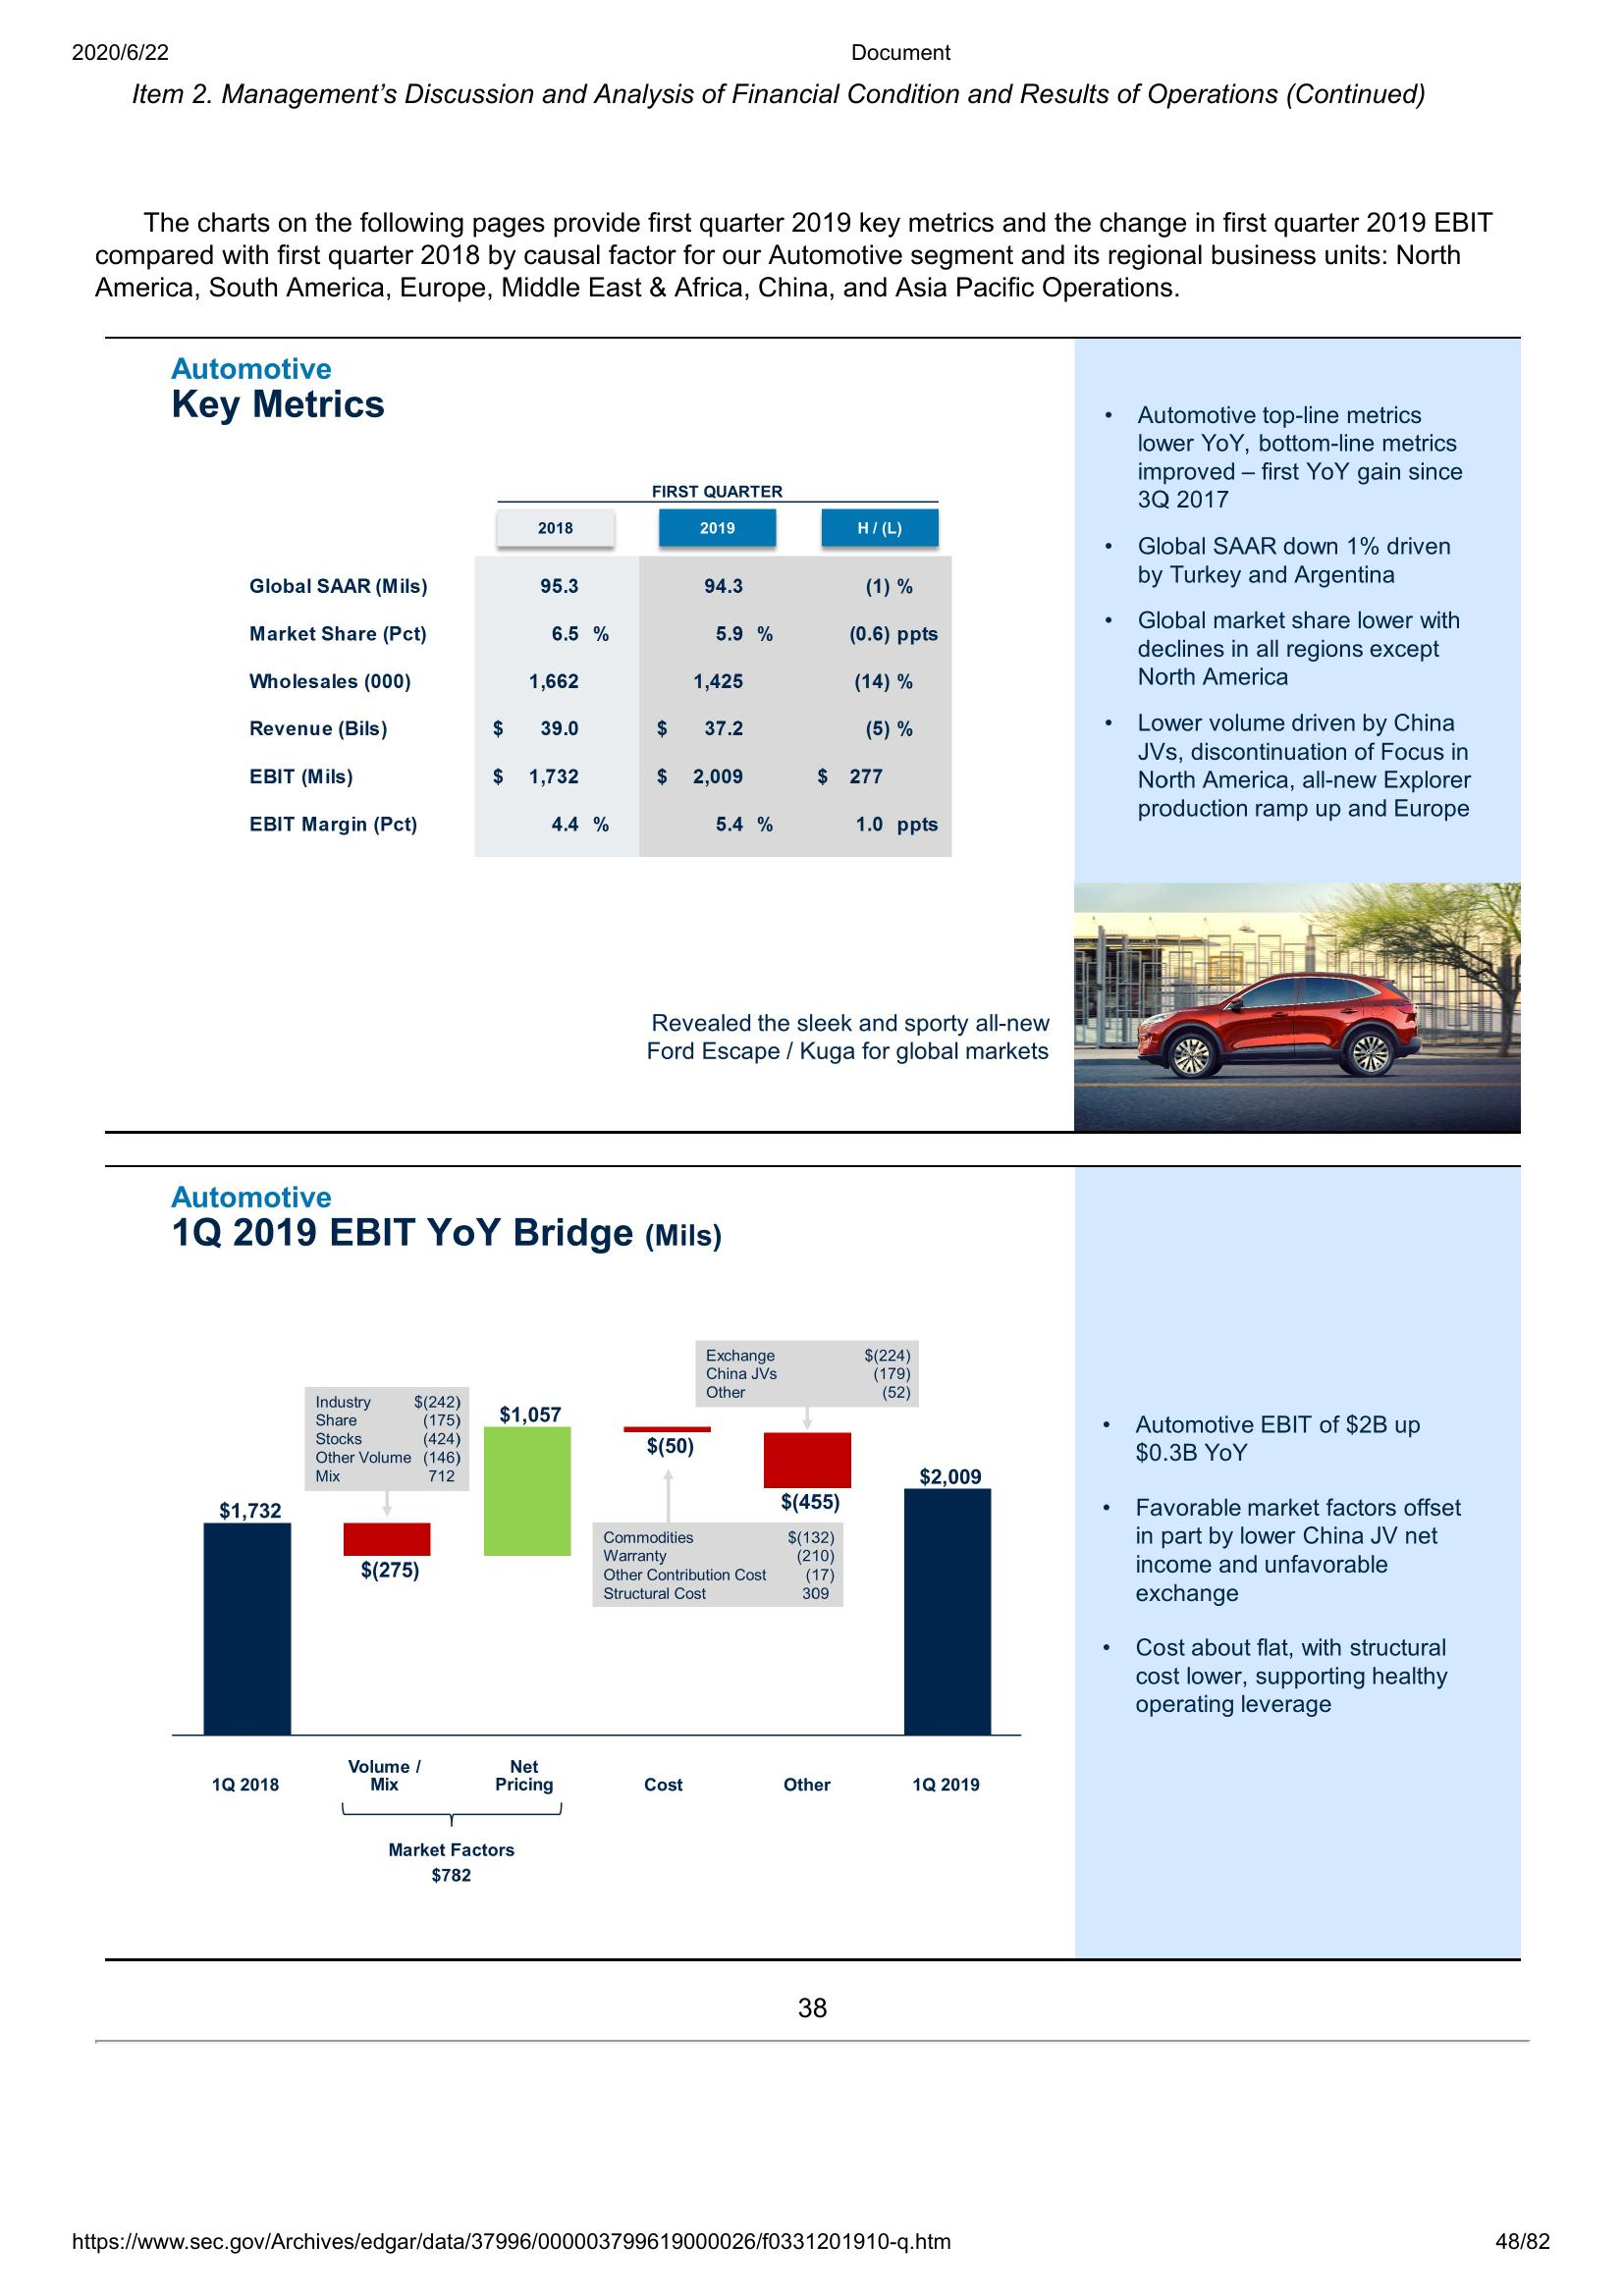table: (230, 476, 956, 865)
